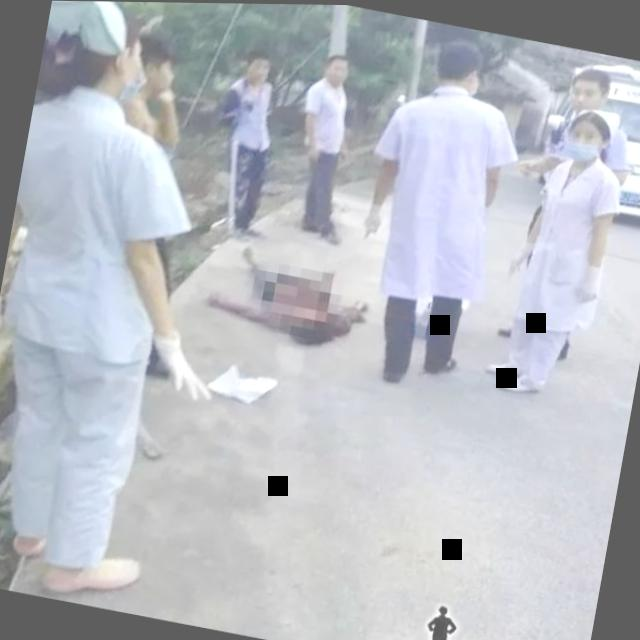Fall-Detected: (192, 220, 386, 356)
